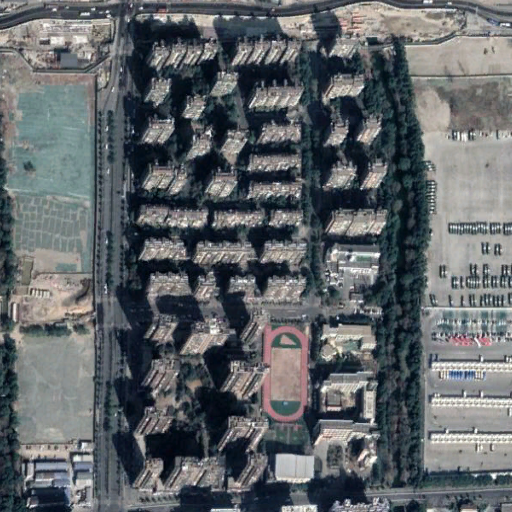cw: (5, 70, 94, 442)
